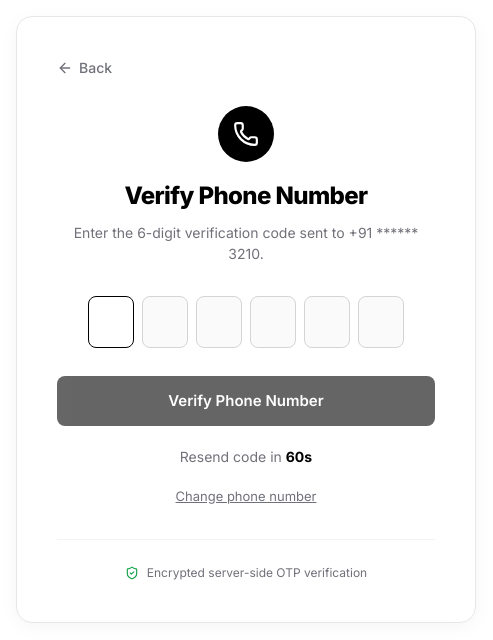
Scenario: VerifyPhonePage Component › accepts numeric digits in OTP boxes and enables submit when 6 digits are entered
The width and height of the screenshot is (493, 640).
Type "1" into the field named "Digit 1" at [111, 322], box x1=88 y1=296 x2=134 y2=348
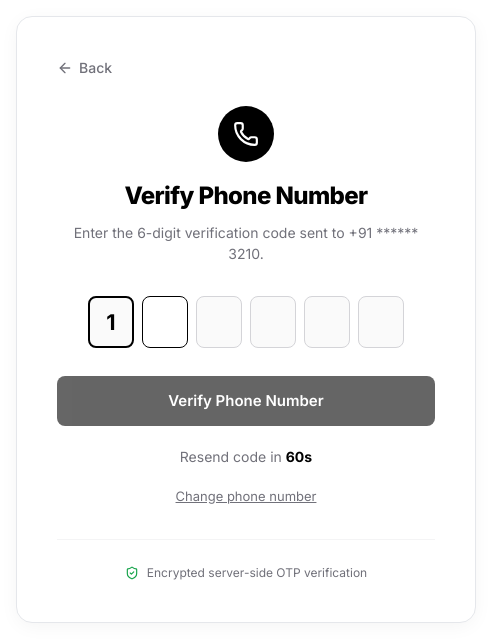
Type "2" into the field named "Digit 2" at [165, 322], box x1=142 y1=296 x2=188 y2=348
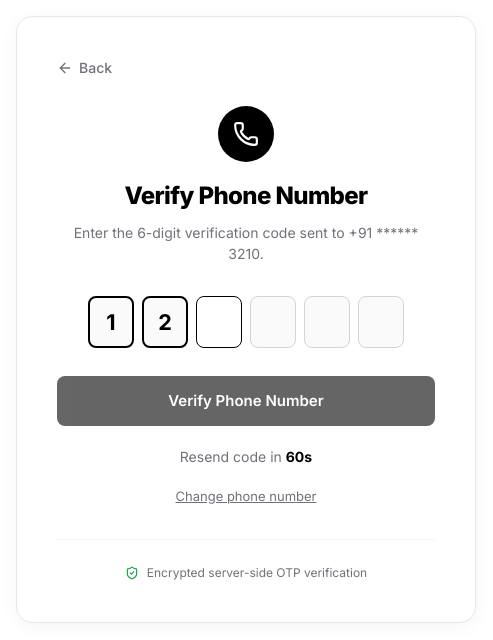
Type "3" into the field named "Digit 3" at [219, 322], box x1=196 y1=296 x2=242 y2=348
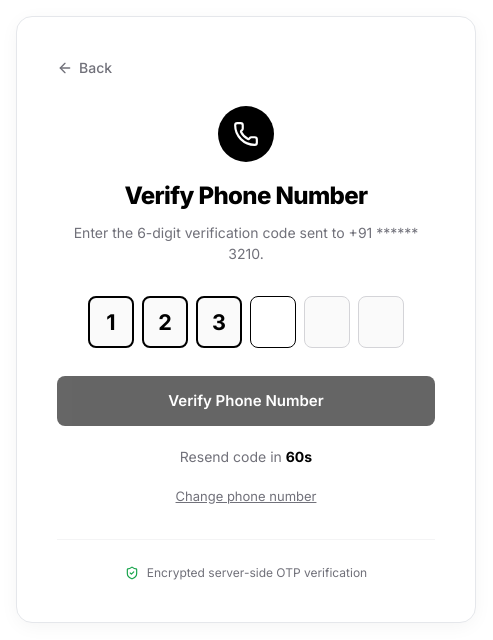
Type "4" into the field named "Digit 4" at [273, 322], box x1=250 y1=296 x2=296 y2=348
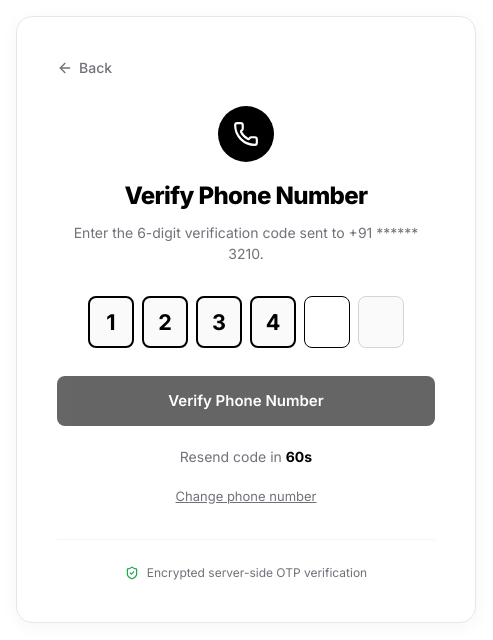
Type "5" into the field named "Digit 5" at [327, 322], box x1=304 y1=296 x2=350 y2=348
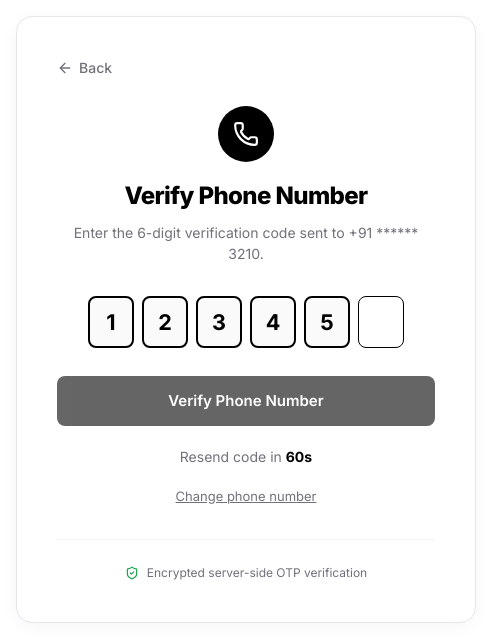
Type "6" into the field named "Digit 6" at [381, 322], box x1=358 y1=296 x2=404 y2=348
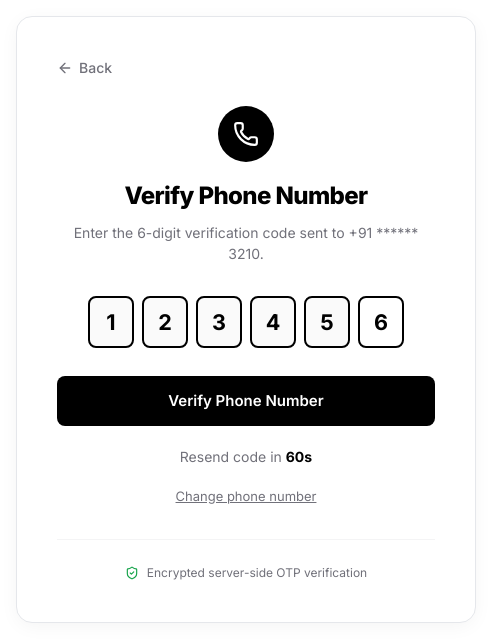
Expected: the button "Verify Phone Number" is enabled, x1=57 y1=376 x2=435 y2=426
